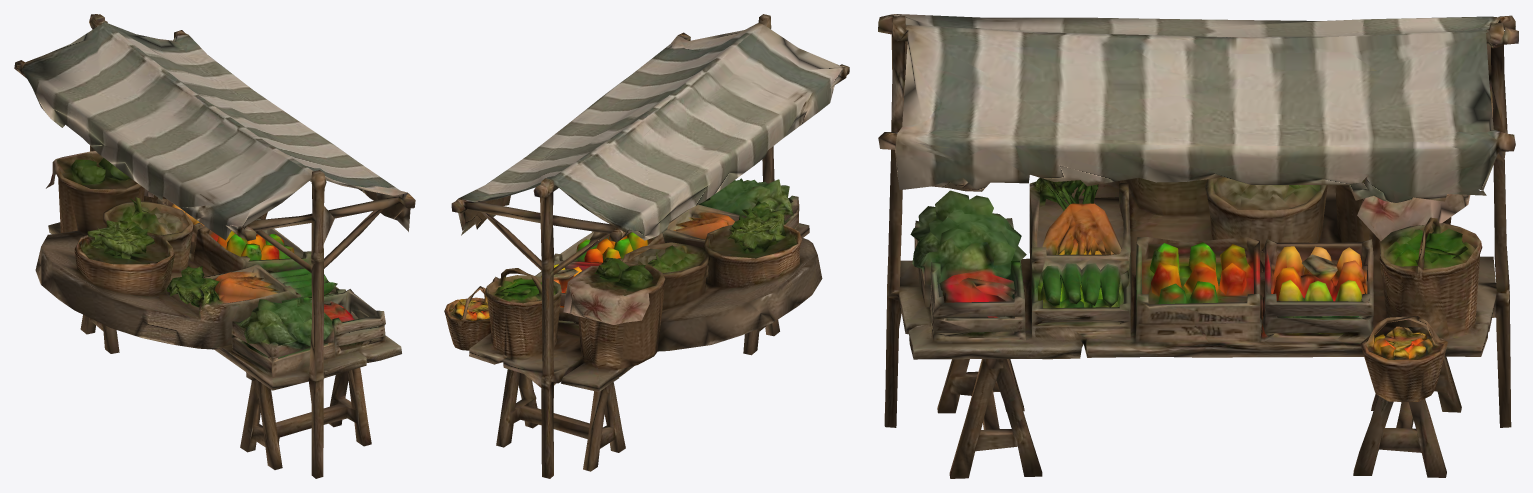
The model's file is prop_market_stall.glb.
3 views of the same model, side by side, from view 1: azimuth 30°, elevation 25°; view 2: azimuth 150°, elevation 25°; view 3: azimuth 270°, elevation 25° (orthographic). The views are drawn at different scales.
Parts seen in each view (by area): view 1: tripo_node_39fd8b2e-95ce-4a3a-a87b-52b9adcbce0c; view 2: tripo_node_39fd8b2e-95ce-4a3a-a87b-52b9adcbce0c; view 3: tripo_node_39fd8b2e-95ce-4a3a-a87b-52b9adcbce0c.
Boxes of the visible parts, x1,y1,x2,y2 form: tripo_node_39fd8b2e-95ce-4a3a-a87b-52b9adcbce0c: [14, 14, 415, 478]; tripo_node_39fd8b2e-95ce-4a3a-a87b-52b9adcbce0c: [444, 14, 849, 478]; tripo_node_39fd8b2e-95ce-4a3a-a87b-52b9adcbce0c: [878, 14, 1518, 478].
Size of the model in its own units: 0.6763 by 0.6971 by 0.9813.
1 material, 1 textured.
